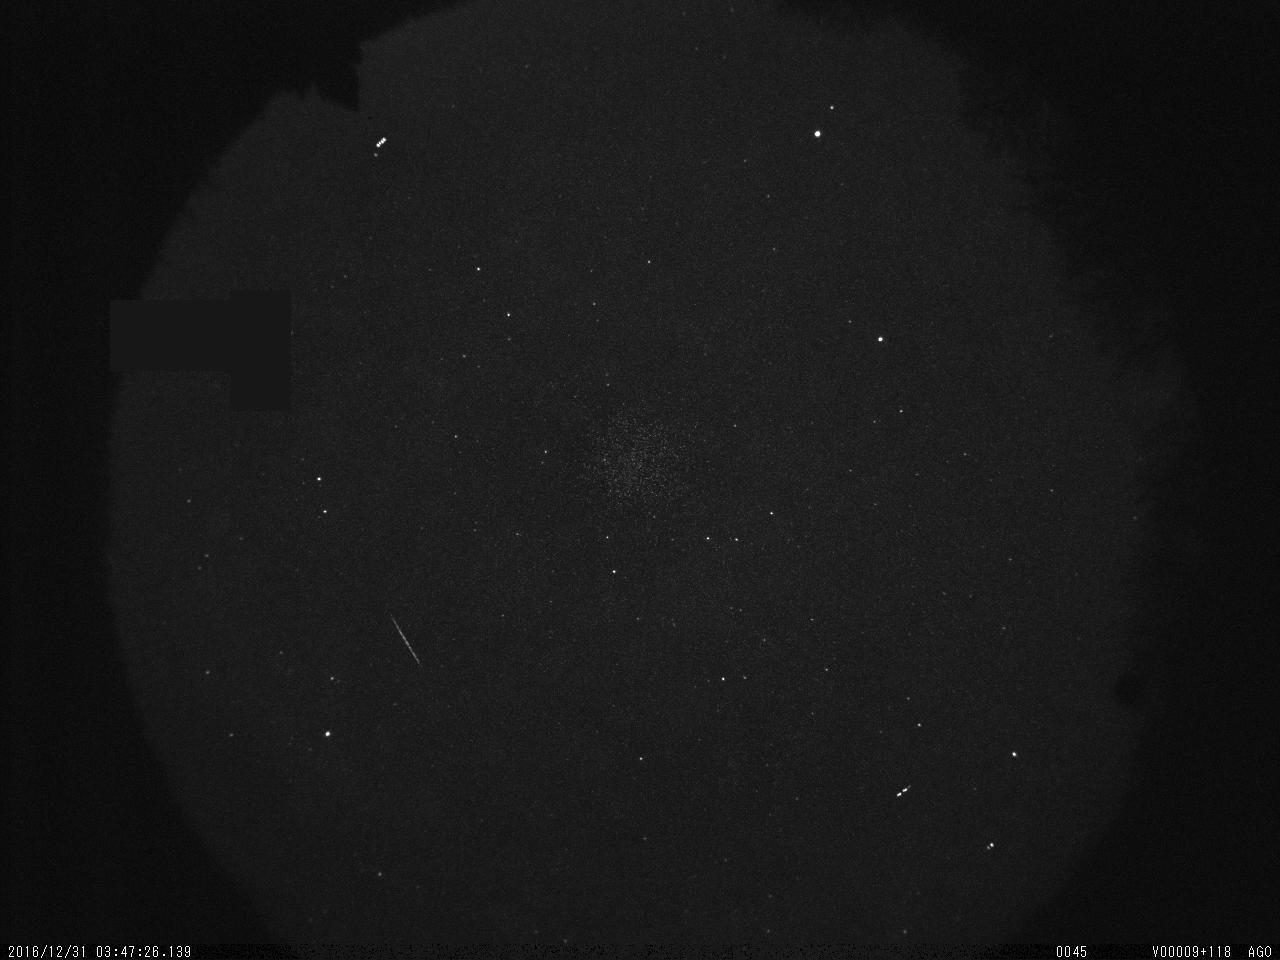meteor: (374, 612, 437, 678)
